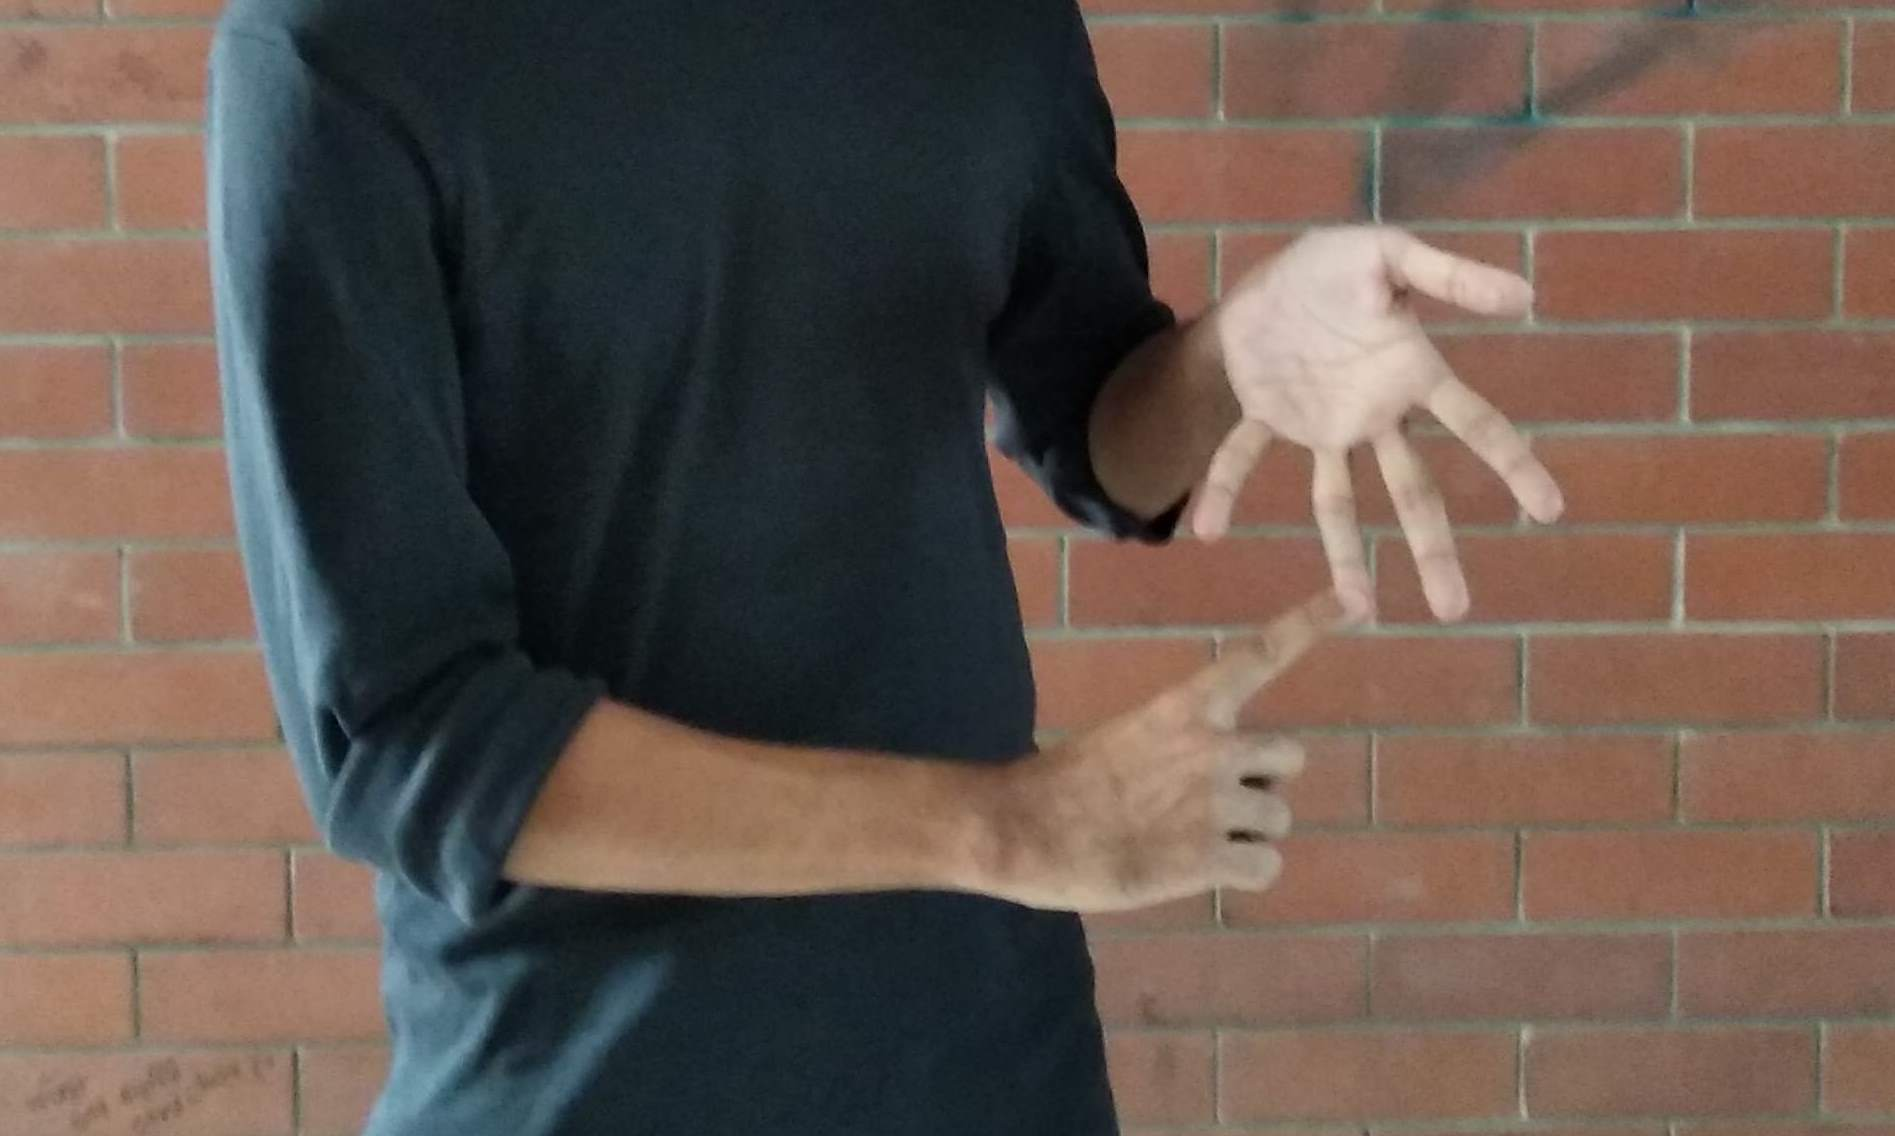e: (1069, 229, 1569, 983)
